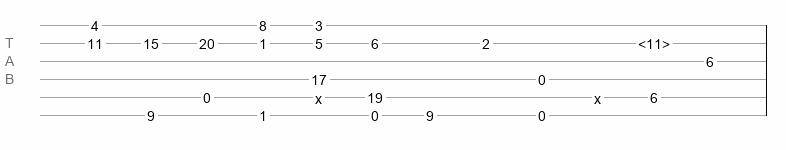0: (203, 90, 211, 100), (371, 108, 379, 118), (538, 108, 546, 118), (538, 72, 546, 82)
1: (259, 108, 267, 118), (259, 36, 267, 46)
11: (87, 36, 103, 46)
15: (143, 36, 159, 46)
17: (311, 72, 327, 82)
19: (367, 90, 383, 100)
2: (482, 36, 490, 46)
20: (199, 36, 215, 46)
3: (315, 18, 323, 28)
4: (91, 18, 99, 28)
5: (315, 36, 323, 46)
6: (371, 36, 379, 46), (650, 90, 658, 100), (706, 54, 714, 64)
8: (259, 18, 267, 28)
9: (147, 108, 155, 118), (426, 108, 434, 118)
harmonic: (638, 36, 670, 46)
x: (315, 91, 322, 99), (594, 91, 601, 99)
